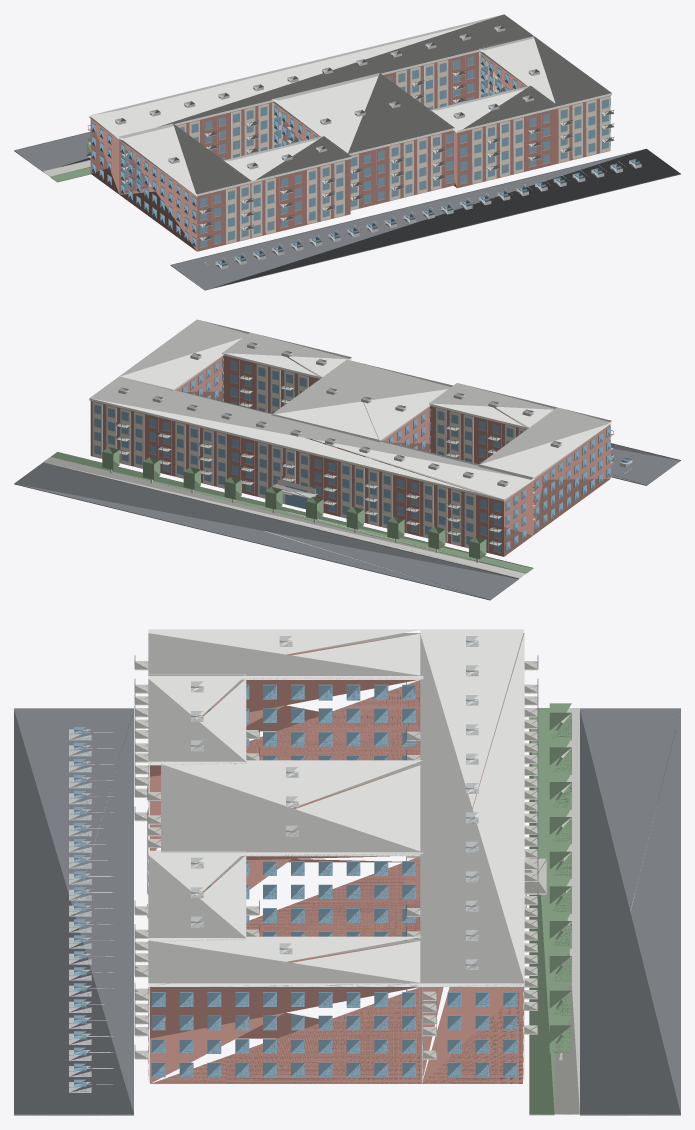
The model's file is alterra-building.gltf.
3 views of the same model, one above another, from view 1: azimuth 30°, elevation 25°; view 2: azimuth 150°, elevation 25°; view 3: azimuth 270°, elevation 25° (orthographic). The views are drawn at different scales.
Bounding box in the file's own units: 152 × 19.25 × 106.
